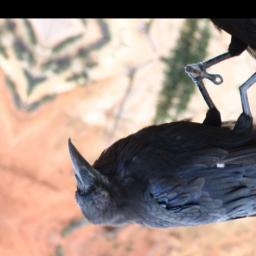Crow: (43, 37, 256, 256)
